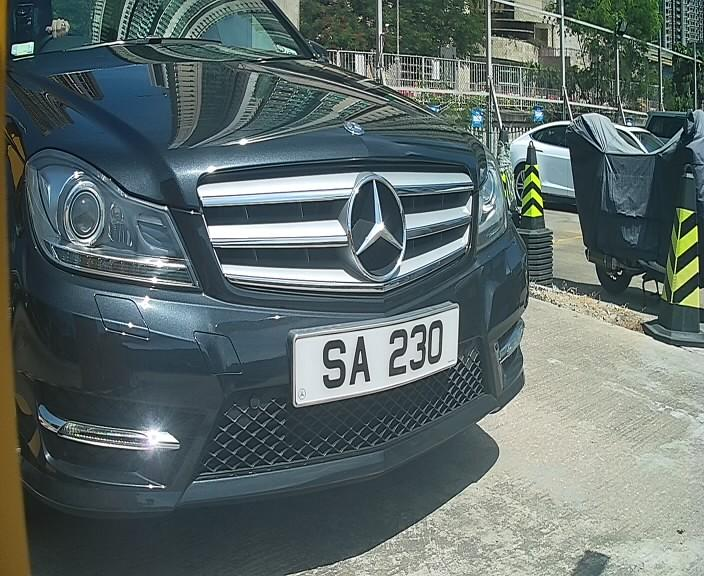License Plate: (290, 304, 463, 407)
